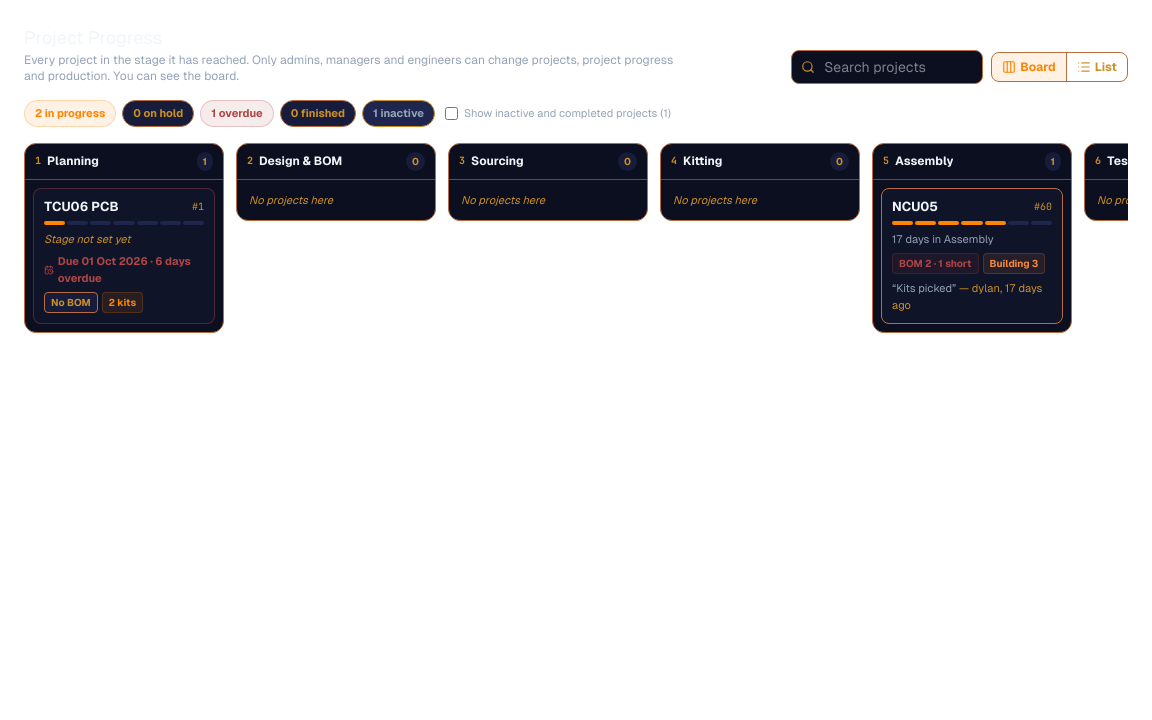
Test: ProjectProgressView › lets viewers look but not move
Click the button "NCU05".
click(915, 207)  # box [892,198,938,215]
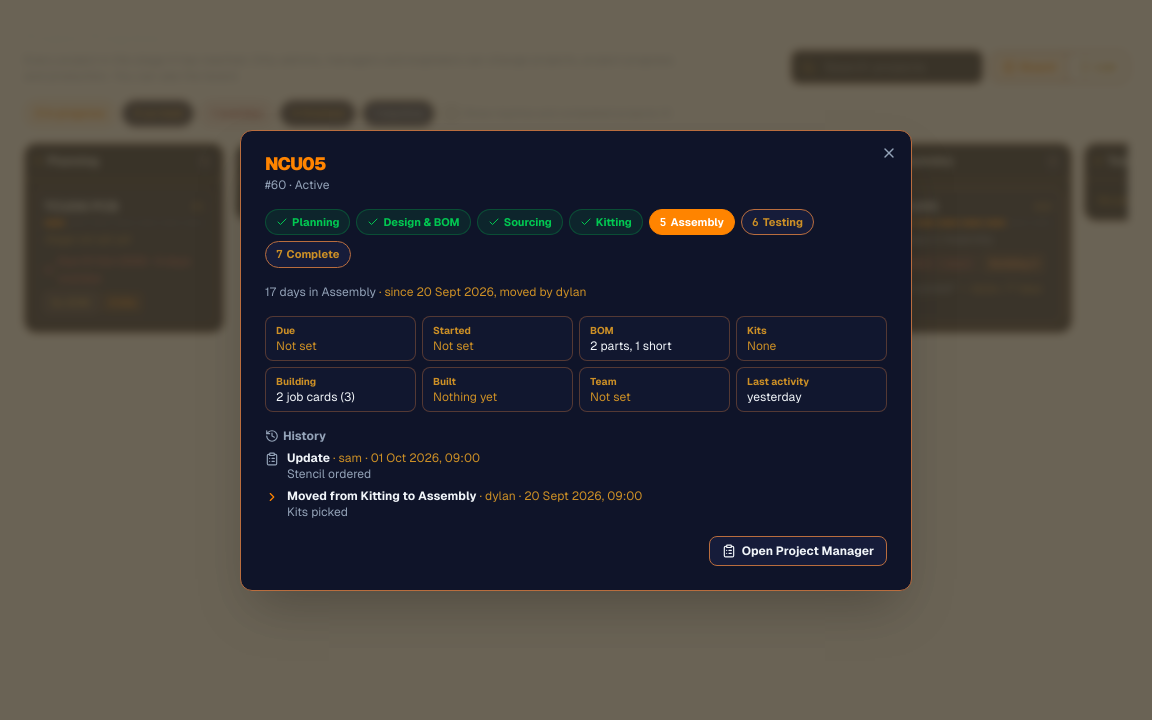
Expected: the text "Stencil ordered" is shown, [287,466,371,480]
